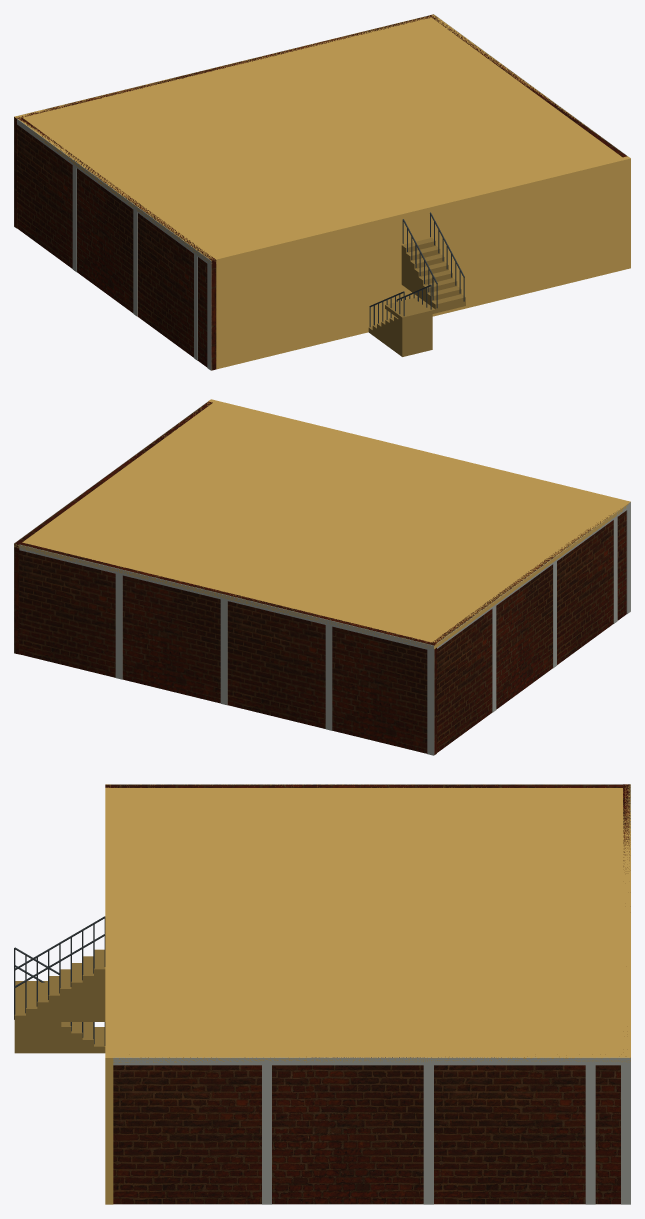
The model's file is building.glb.
3 views of the same model, one above another, from view 1: azimuth 30°, elevation 25°; view 2: azimuth 150°, elevation 25°; view 3: azimuth 270°, elevation 25° (orthographic). The views are drawn at different scales.
Parts seen in each view (by area): view 1: roof/house:0/roof_slab#0001, house:0/edge0/z0/house:0/edge0/z0/wall_0_0, house:0/edge3/z0/house:0/edge3/z0/wall_0_0, house:0/edge2/z0/house:0/edge2/z0/wall_0_0, house:0/edge0/z0/stair_00/exterior_stair_step#0008, house:0/edge3/z0/house:0/edge3/z0/beam_0_0, house:0/edge1/z0/house:0/edge1/z0/wall_0_0, house:0/edge0/z0/stair_00/exterior_stair_landing#0001, house:0/edge3/z0/house:0/edge3/z0/column_1_0, house:0/edge3/z0/house:0/edge3/z0/column_2_0, house:0/edge3/z0/house:0/edge3/z0/column_3_0; view 2: roof/house:0/roof_slab#0001, house:0/edge2/z0/house:0/edge2/z0/wall_0_0, house:0/edge3/z0/house:0/edge3/z0/wall_0_0, house:0/edge2/z0/house:0/edge2/z0/beam_0_0, house:0/edge1/z0/house:0/edge1/z0/wall_0_0, house:0/edge0/z0/house:0/edge0/z0/wall_0_0, house:0/edge2/z0/house:0/edge2/z0/column_1_0, house:0/edge2/z0/house:0/edge2/z0/column_3_0, house:0/edge2/z0/house:0/edge2/z0/column_2_0, house:0/edge2/z0/house:0/edge2/z0/column_4_0, house:0/edge3/z0/house:0/edge3/z0/beam_0_0, house:0/edge3/z0/house:0/edge3/z0/column_4_0 (+2 smaller); view 3: roof/house:0/roof_slab#0001, house:0/edge1/z0/house:0/edge1/z0/wall_0_0, house:0/edge1/z0/house:0/edge1/z0/beam_0_0, house:0/edge0/z0/house:0/edge0/z0/wall_0_0, house:0/edge3/z0/house:0/edge3/z0/wall_0_0, house:0/edge1/z0/house:0/edge1/z0/column_3_0, house:0/edge1/z0/house:0/edge1/z0/column_4_0, house:0/edge1/z0/house:0/edge1/z0/column_1_0, house:0/edge1/z0/house:0/edge1/z0/column_2_0, house:0/edge0/z0/stair_00/exterior_stair_step#0016, house:0/edge0/z0/stair_00/exterior_stair_step#0015, house:0/edge0/z0/stair_00/exterior_stair_step#0014 (+1 smaller).
Boxes of the visible parts, bbox=[...] form: roof/house:0/roof_slab#0001: bbox=[14, 14, 630, 264]; house:0/edge0/z0/house:0/edge0/z0/wall_0_0: bbox=[213, 156, 630, 369]; house:0/edge3/z0/house:0/edge3/z0/wall_0_0: bbox=[17, 117, 216, 370]; house:0/edge2/z0/house:0/edge2/z0/wall_0_0: bbox=[14, 15, 430, 228]; house:0/edge0/z0/stair_00/exterior_stair_step#0008: bbox=[398, 307, 432, 356]; house:0/edge3/z0/house:0/edge3/z0/beam_0_0: bbox=[17, 119, 211, 265]; house:0/edge1/z0/house:0/edge1/z0/wall_0_0: bbox=[429, 14, 626, 157]; house:0/edge0/z0/stair_00/exterior_stair_landing#0001: bbox=[385, 297, 465, 319]; house:0/edge3/z0/house:0/edge3/z0/column_1_0: bbox=[207, 264, 211, 370]; house:0/edge3/z0/house:0/edge3/z0/column_2_0: bbox=[72, 165, 76, 272]; house:0/edge3/z0/house:0/edge3/z0/column_3_0: bbox=[133, 210, 137, 316]; roof/house:0/roof_slab#0001: bbox=[14, 399, 630, 649]; house:0/edge2/z0/house:0/edge2/z0/wall_0_0: bbox=[19, 542, 436, 754]; house:0/edge3/z0/house:0/edge3/z0/wall_0_0: bbox=[432, 510, 626, 752]; house:0/edge2/z0/house:0/edge2/z0/beam_0_0: bbox=[19, 544, 434, 651]; house:0/edge1/z0/house:0/edge1/z0/wall_0_0: bbox=[14, 401, 212, 654]; house:0/edge0/z0/house:0/edge0/z0/wall_0_0: bbox=[208, 399, 578, 491]; house:0/edge2/z0/house:0/edge2/z0/column_1_0: bbox=[427, 650, 434, 755]; house:0/edge2/z0/house:0/edge2/z0/column_3_0: bbox=[220, 599, 227, 705]; house:0/edge2/z0/house:0/edge2/z0/column_2_0: bbox=[115, 574, 122, 679]; house:0/edge2/z0/house:0/edge2/z0/column_4_0: bbox=[325, 625, 332, 730]; house:0/edge3/z0/house:0/edge3/z0/beam_0_0: bbox=[437, 502, 630, 648]; house:0/edge3/z0/house:0/edge3/z0/column_4_0: bbox=[613, 517, 617, 623]; roof/house:0/roof_slab#0001: bbox=[105, 784, 630, 1062]; house:0/edge1/z0/house:0/edge1/z0/wall_0_0: bbox=[113, 1057, 620, 1204]; house:0/edge1/z0/house:0/edge1/z0/beam_0_0: bbox=[113, 1057, 630, 1065]; house:0/edge0/z0/house:0/edge0/z0/wall_0_0: bbox=[105, 788, 113, 1204]; house:0/edge3/z0/house:0/edge3/z0/wall_0_0: bbox=[105, 784, 622, 787]; house:0/edge1/z0/house:0/edge1/z0/column_3_0: bbox=[423, 1065, 433, 1204]; house:0/edge1/z0/house:0/edge1/z0/column_4_0: bbox=[585, 1065, 595, 1204]; house:0/edge1/z0/house:0/edge1/z0/column_1_0: bbox=[621, 1065, 630, 1204]; house:0/edge1/z0/house:0/edge1/z0/column_2_0: bbox=[262, 1065, 271, 1204]; house:0/edge0/z0/stair_00/exterior_stair_step#0016: bbox=[94, 949, 105, 1021]; house:0/edge0/z0/stair_00/exterior_stair_step#0015: bbox=[82, 956, 93, 1021]; house:0/edge0/z0/stair_00/exterior_stair_step#0014: bbox=[71, 963, 82, 1021].
Bounding box in the file's own units: 16 × 4 × 15.26.
Materials: 5 (1 with a texture image).
